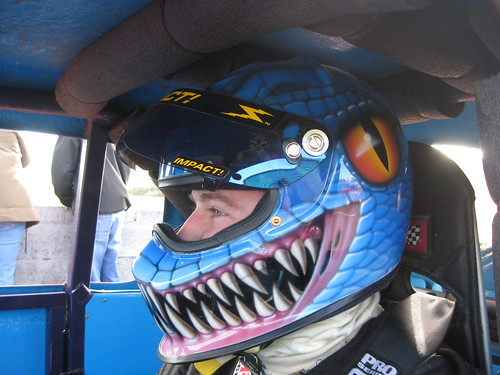helmet: (104, 74, 421, 362)
